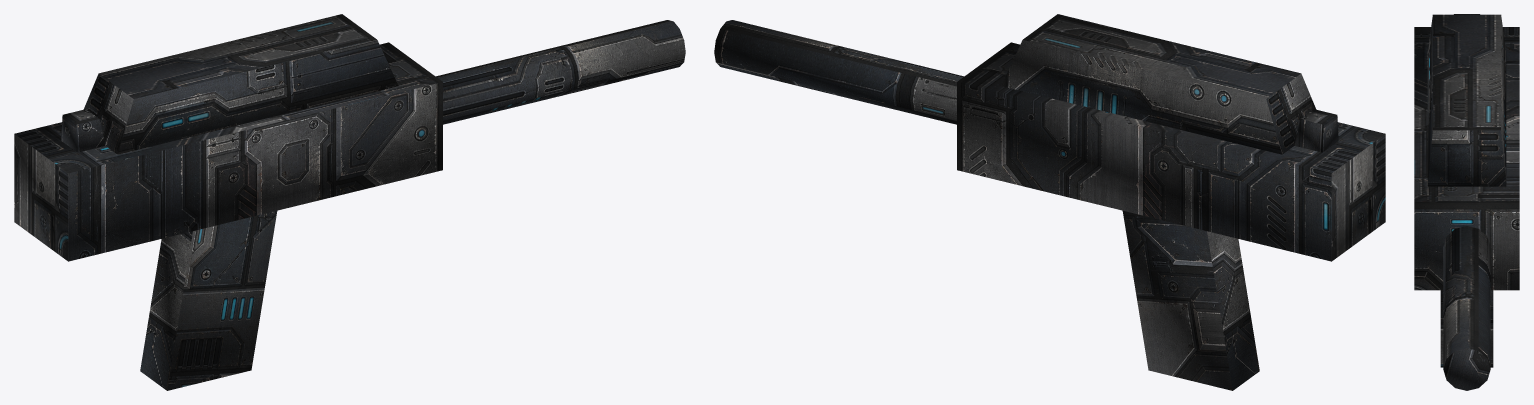
The model's file is blaster.obj.
3 renders of one model, left to right at view 1: azimuth 30°, elevation 25°; view 2: azimuth 150°, elevation 25°; view 3: azimuth 270°, elevation 25°, orthographic. The views are drawn at different scales.
Visible parts, largest first — view 1: Blaster; view 2: Blaster; view 3: Blaster.
Boxes of the visible parts, <box> form: Blaster: <box>14,14,685,390</box>; Blaster: <box>714,14,1385,390</box>; Blaster: <box>1414,14,1519,390</box>.
Bounding box in the file's own units: 1.35 × 0.62 × 0.2.
Materials: 1 (1 with a texture image).
